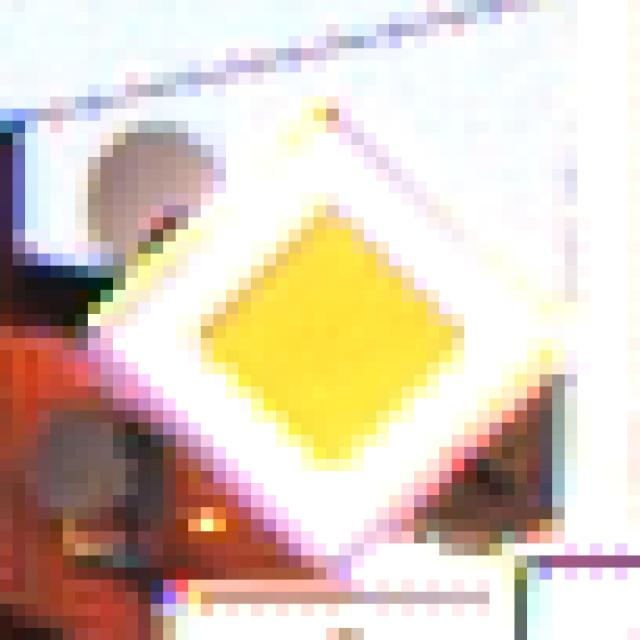Main Road: (64, 74, 578, 581)
